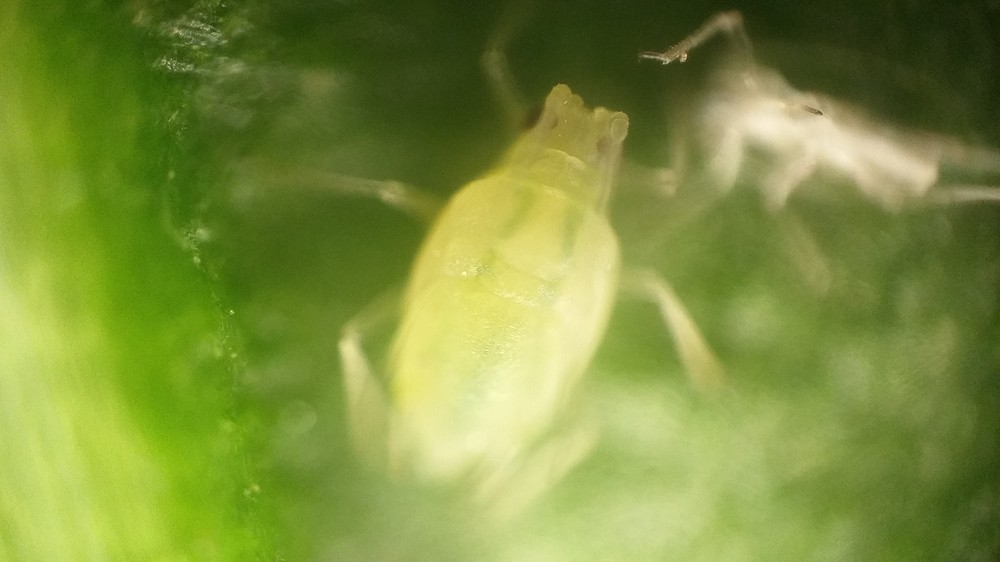Pulgon: (318, 5, 746, 527)
